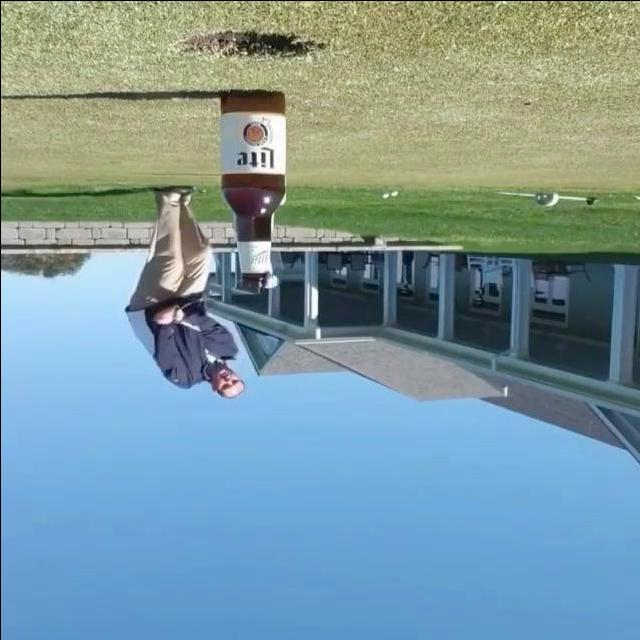golf ball: (381, 192, 388, 198), (390, 191, 398, 196)
golf club-handle: (177, 279, 240, 309)
